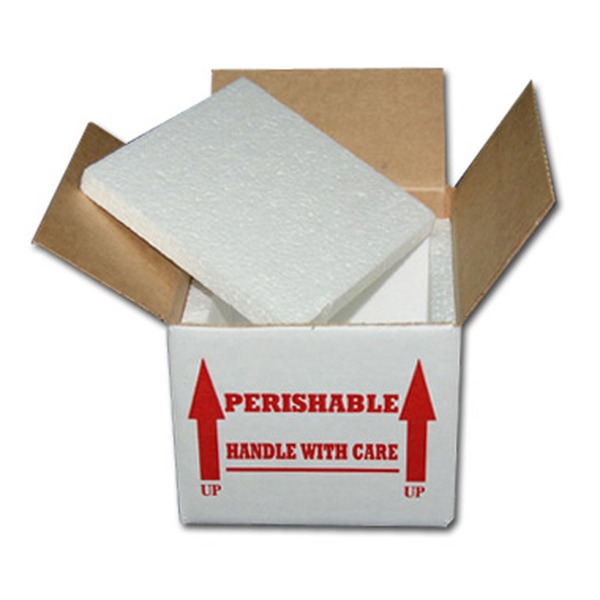Boxes: (80, 76, 459, 325)
